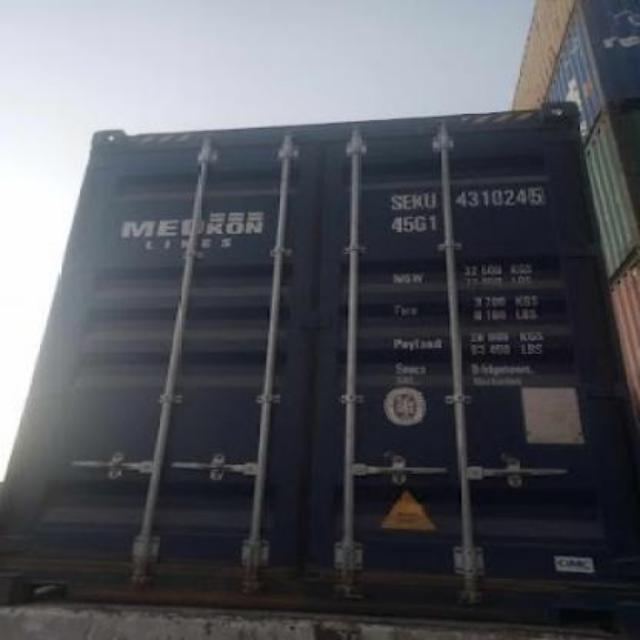0: (490, 182, 500, 210)
1: (482, 183, 490, 213)
2: (501, 184, 514, 210)
3: (466, 187, 478, 211)
4: (514, 182, 526, 210), (454, 187, 466, 210)
5: (530, 180, 544, 208)
E: (398, 187, 410, 213)
K: (410, 187, 422, 213)
S: (388, 188, 400, 215)
U: (422, 187, 436, 211)
